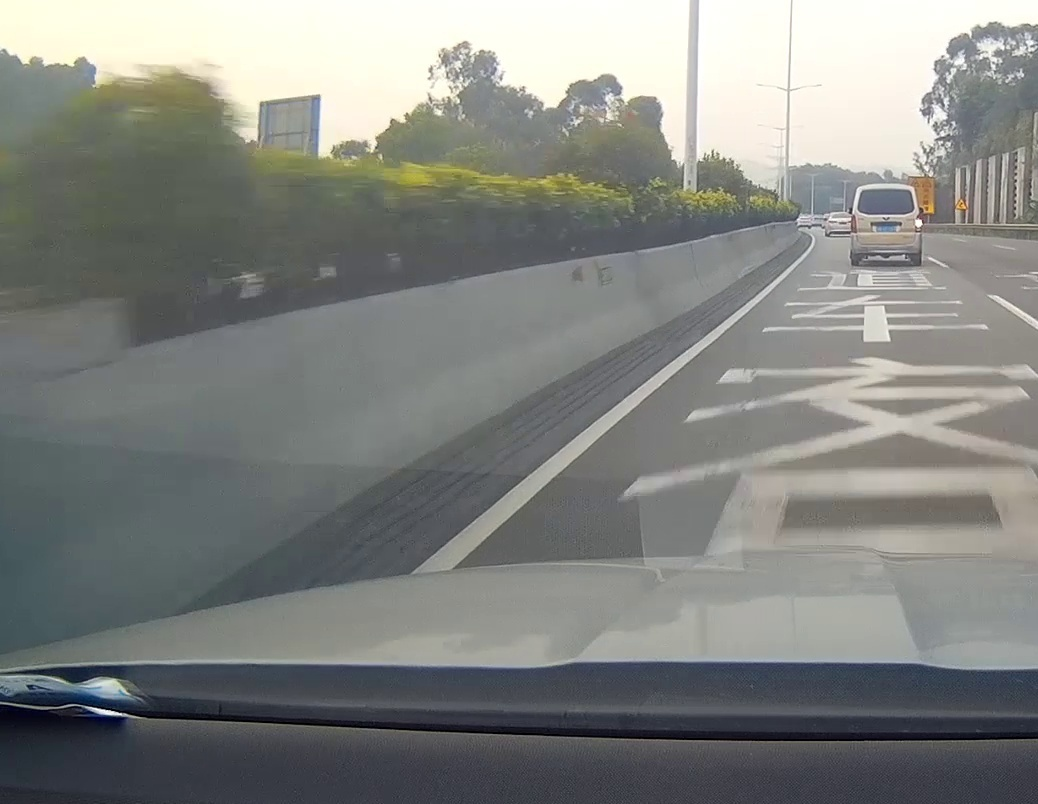L_light: (851, 214, 857, 234)
R_light: (915, 213, 923, 233)
T_light: (879, 190, 892, 191)
day-right: (850, 183, 923, 266)
